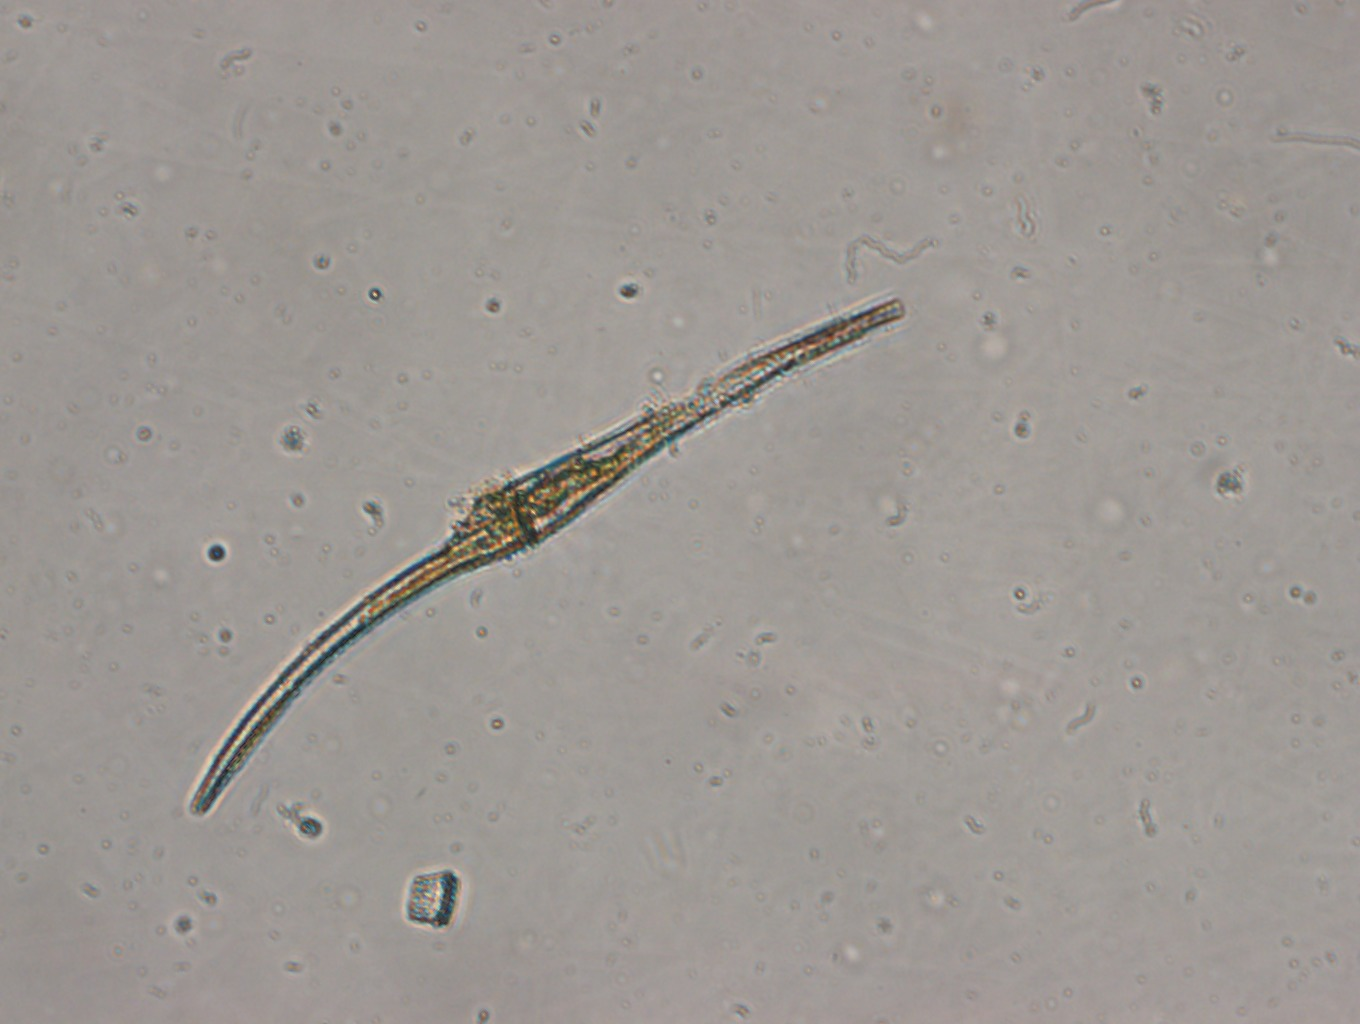ceratium fusus: (178, 287, 915, 826)
